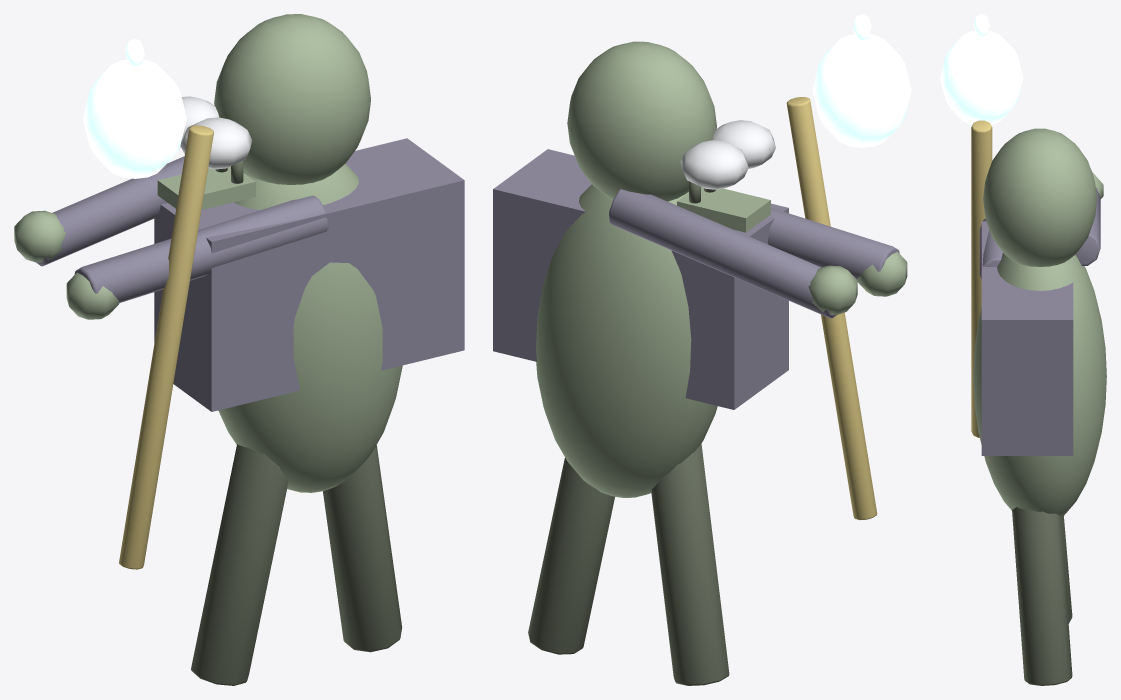
Rendered from healer.glb.
The picture shows the model from 3 angles, left to right: view 1: azimuth 30°, elevation 25°; view 2: azimuth 150°, elevation 25°; view 3: azimuth 270°, elevation 25°; orthographic projection. The views are drawn at different scales.
Visible parts, largest first — view 1: chest, torso, head, leg, healer_staff, leg.001, lantern_orb, arm.001, arm, hand, mouth_band, eye.001 (+2 smaller); view 2: torso, chest, head, leg, leg.001, arm, lantern_orb, healer_staff, arm.001, eye, mouth_band, hand (+2 smaller); view 3: chest, torso, head, leg.001, lantern_orb, healer_staff, arm, arm.001, leg, staff_bead.
Part boxes in pixels (x1,y1,x2,y2): chest: (154,138,464,411); torso: (218,164,402,492); head: (214,14,370,184); leg: (191,444,287,685); healer_staff: (119,125,213,569); leg.001: (323,445,402,652); lantern_orb: (83,59,186,178); arm.001: (74,195,328,302); arm: (36,156,184,266); hand: (14,210,65,262); mouth_band: (157,166,255,209); eye.001: (181,117,252,169); torso: (536,184,717,497); chest: (493,149,788,409); head: (567,41,716,201); leg: (651,443,729,685); leg.001: (528,458,614,654); arm: (609,189,836,318); lantern_orb: (812,34,911,147); healer_staff: (786,97,877,520); arm.001: (768,208,899,279); eye: (680,140,748,189); mouth_band: (677,187,770,232); hand: (808,265,857,314); chest: (981,221,1073,455); torso: (973,253,1106,517); head: (983,128,1096,266); leg.001: (1012,507,1072,685); lantern_orb: (940,31,1023,124); healer_staff: (971,120,992,437); arm: (1075,188,1100,265); arm.001: (979,218,1002,279); leg: (1061,516,1072,623); staff_bead: (973,14,989,35).
Size of the model in its own units: 0.8523 by 1.48 by 0.4002.
